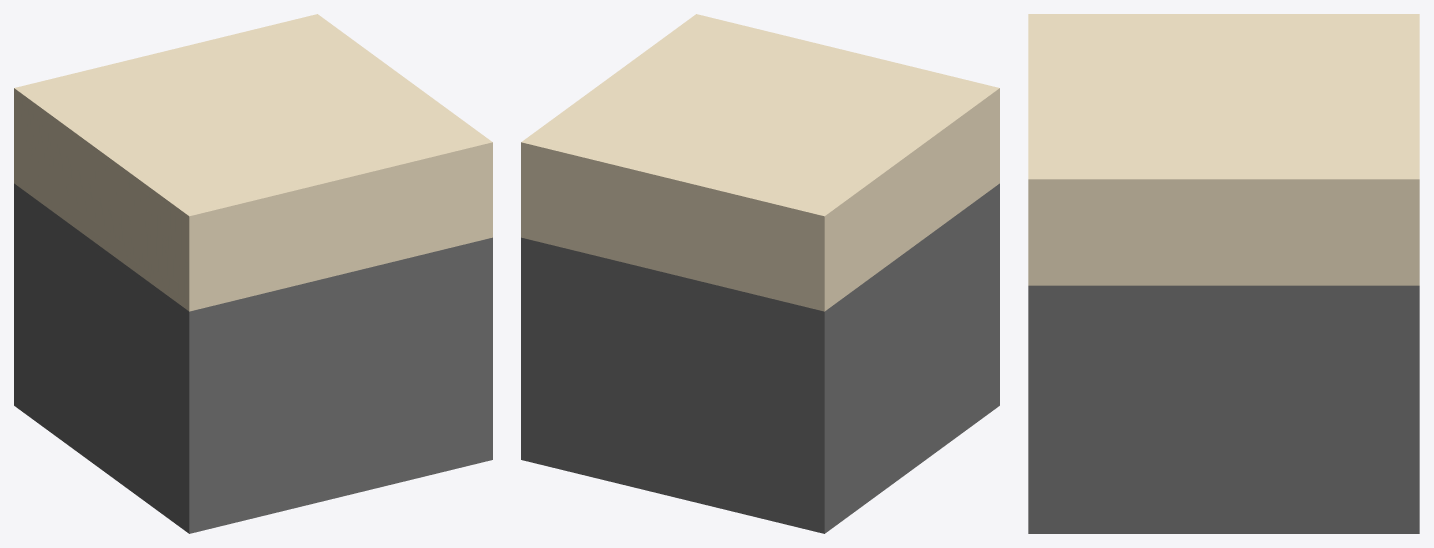
File: SnowRockGroundBlender.glb
The picture shows the model from 3 angles, left to right: view 1: azimuth 30°, elevation 25°; view 2: azimuth 150°, elevation 25°; view 3: azimuth 270°, elevation 25°; orthographic projection. The views are drawn at different scales.
Visible parts, largest first — view 1: WinterGroundRockSnow; view 2: WinterGroundRockSnow; view 3: WinterGroundRockSnow.
Part boxes in pixels (x1,y1,x2,y2): WinterGroundRockSnow: (14, 14, 492, 533); WinterGroundRockSnow: (521, 14, 999, 533); WinterGroundRockSnow: (1028, 14, 1419, 533).
Bounding box in the file's own units: 2 × 2 × 2.
1 material, 1 textured.
